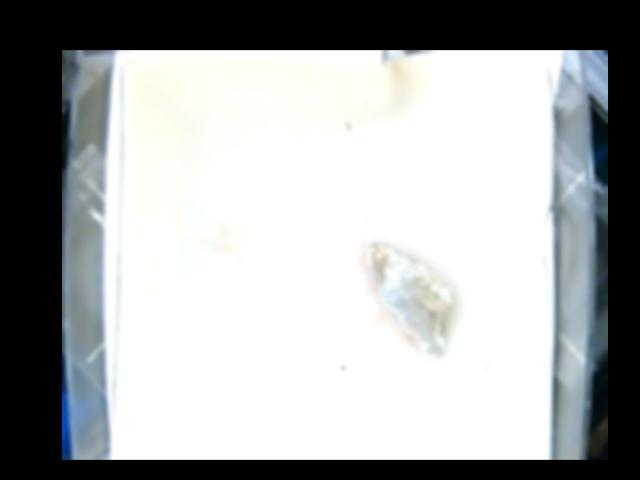Brisk: (369, 239, 451, 356)
